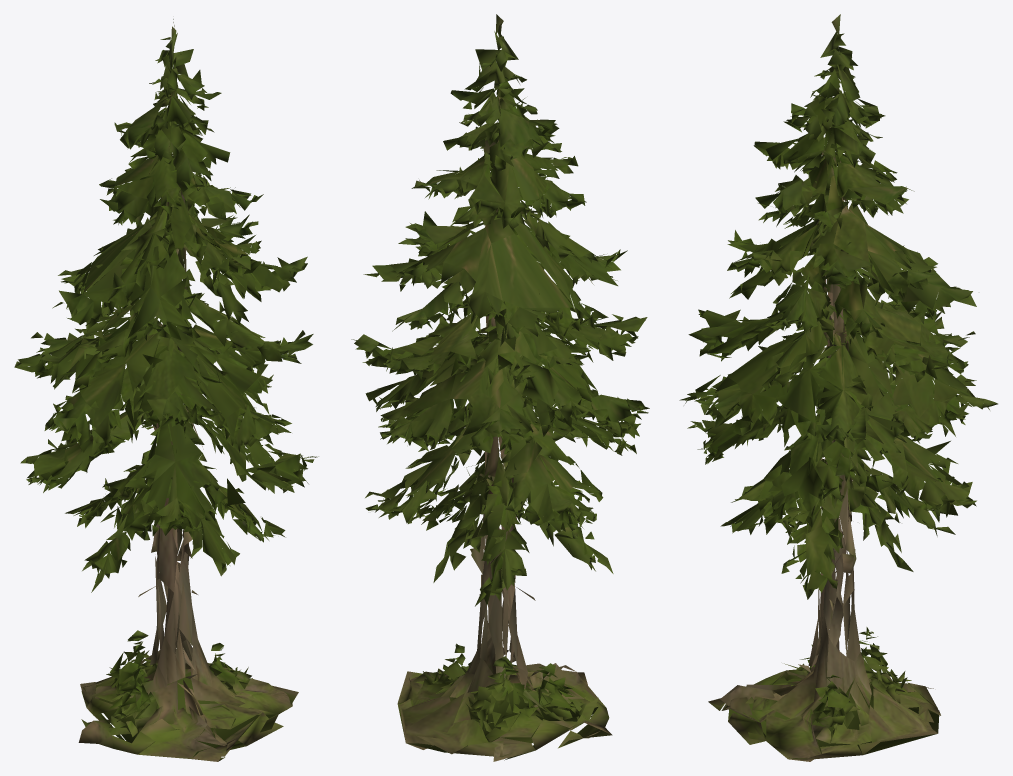
File: World73438ba0b7.glb
The picture shows the model from 3 angles, left to right: view 1: azimuth 30°, elevation 25°; view 2: azimuth 150°, elevation 25°; view 3: azimuth 270°, elevation 25°; orthographic projection.
Parts seen in each view (by area): view 1: World73438ba0b7; view 2: World73438ba0b7; view 3: World73438ba0b7.
Part boxes in pixels (x1,y1,x2,y2): World73438ba0b7: (14, 19, 318, 761); World73438ba0b7: (351, 14, 649, 761); World73438ba0b7: (679, 14, 997, 761).
Size of the model in its own units: 1.83 by 4.42 by 1.81.
1 material, 1 textured.
